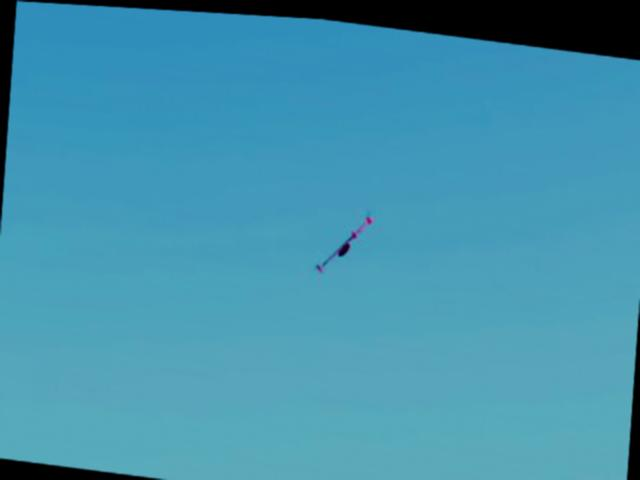uav: (302, 194, 386, 279)
